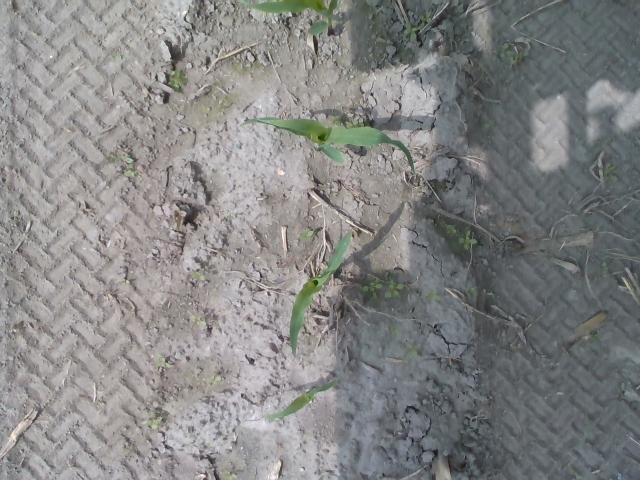Maize: (238, 115, 418, 175), (289, 228, 353, 354), (239, 0, 339, 37), (262, 378, 336, 422)
Weeds: (440, 220, 477, 251), (359, 279, 404, 301), (117, 148, 139, 178), (165, 69, 185, 91), (603, 160, 618, 184), (404, 21, 419, 42), (508, 49, 528, 64), (142, 417, 162, 430), (418, 10, 432, 23), (422, 290, 440, 300), (300, 227, 312, 242), (221, 470, 237, 480), (406, 346, 419, 358), (208, 374, 223, 384), (189, 271, 205, 280), (191, 314, 202, 324), (466, 285, 476, 295)
